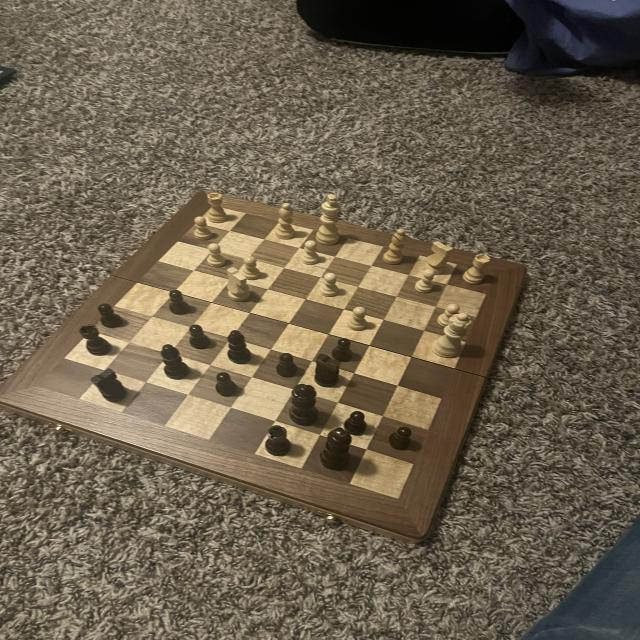bishop: (155, 342, 195, 382), (225, 329, 254, 366)
black-bishop: (318, 425, 356, 473)
black-king: (89, 368, 128, 405), (311, 352, 342, 389)
black-knight: (97, 301, 125, 330), (385, 425, 414, 453), (211, 371, 241, 398), (341, 408, 368, 437), (329, 337, 357, 364), (167, 289, 194, 316), (186, 324, 213, 351), (275, 353, 300, 378)
black-pawn: (286, 382, 322, 428)
black-queen: (78, 324, 114, 358), (262, 423, 294, 459)
black-rook: (382, 226, 410, 266), (274, 201, 299, 242)
white-bishop: (314, 191, 346, 247)
white-king: (423, 241, 455, 275), (226, 266, 253, 303)
white-knight: (236, 254, 265, 282), (346, 304, 373, 332), (412, 268, 438, 294), (436, 302, 461, 329), (299, 239, 323, 267), (317, 272, 341, 300), (206, 242, 228, 268), (193, 215, 214, 242)
white-pawn: (429, 311, 475, 359)
white-queen: (459, 254, 494, 286), (207, 190, 230, 224)
